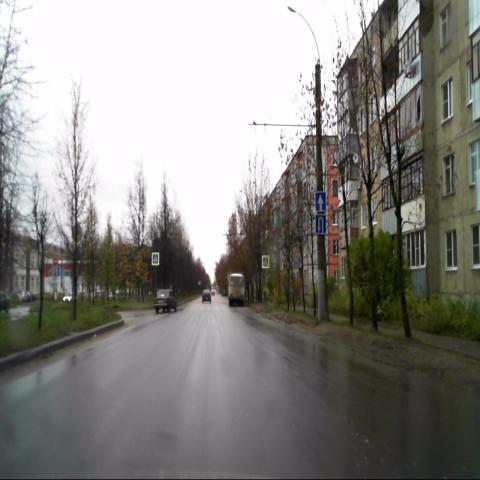5_19_1: (151, 252, 159, 266), (262, 255, 269, 268)
5_5: (315, 191, 326, 211)
6_3_1: (315, 215, 326, 234)
